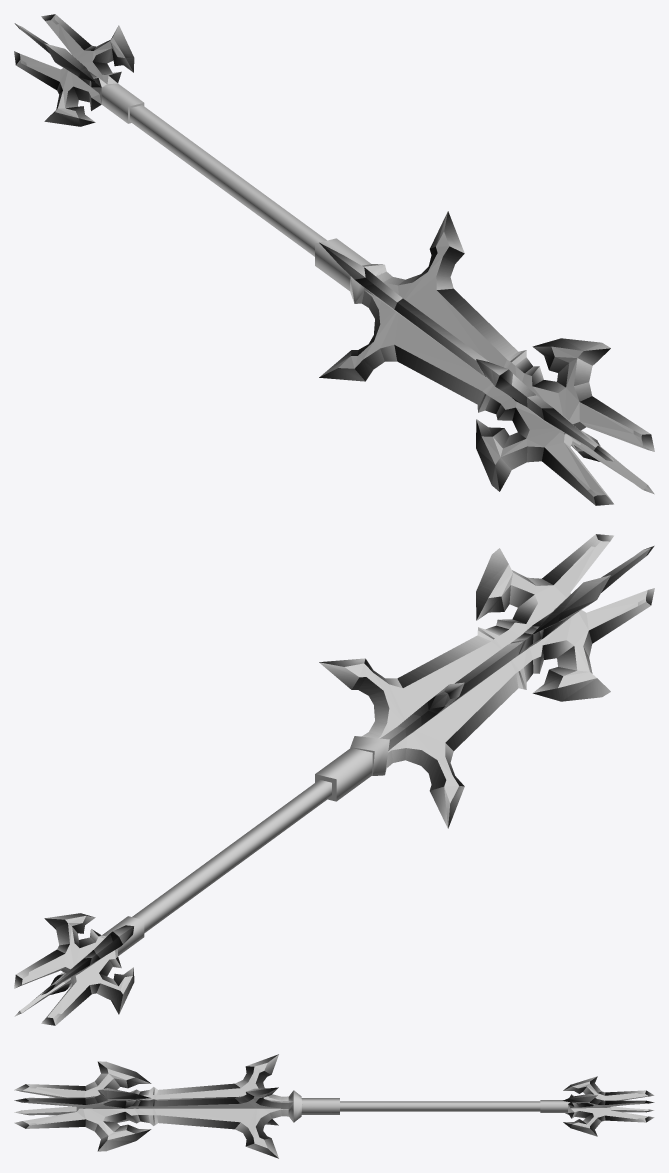
The model's file is moyuzhizhang.FBX.
3 views of the same model, one above another, from view 1: azimuth 30°, elevation 25°; view 2: azimuth 150°, elevation 25°; view 3: azimuth 270°, elevation 25° (orthographic). The views are drawn at different scales.
Parts seen in each view (by area): view 1: moyuzhizhang; view 2: moyuzhizhang; view 3: moyuzhizhang.
Boxes of the visible parts, x1=… form: moyuzhizhang: x1=14, y1=14, x2=654, y2=505; moyuzhizhang: x1=14, y1=534, x2=654, y2=1025; moyuzhizhang: x1=14, y1=1054, x2=654, y2=1158.
Bounding box in the file's own units: 87.76 × 87.76 × 713.
